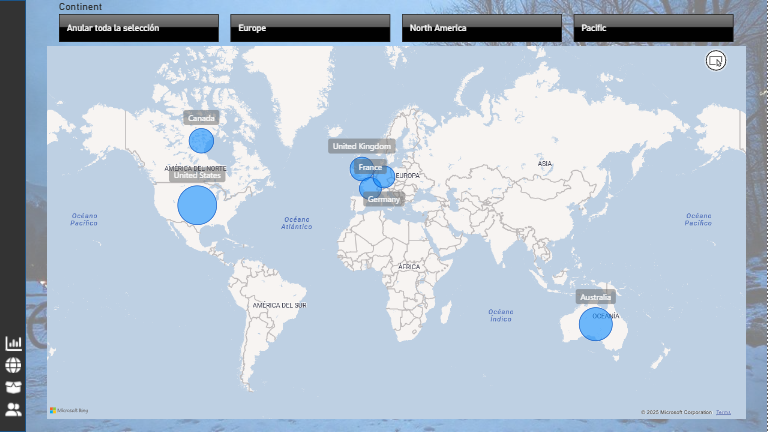

Layout of this report page (visuals, bound fields, positions):
{"tool":"powerbi","page":{"name":"Map","canvas":[1280,720],"ordinal":1},"visuals":[{"type":"shape","box":[0,0,45,720],"z":0},{"type":"actionButton","box":[7.1,555.7,35.7,35.7],"z":0,"group":"g1"},{"type":"map","fields":{"Category":["Territory Lookup.Country"],"Size":["Measure Table.Total Orders"]},"box":[75,71.7,1175,631.7],"z":1000},{"type":"actionButton","box":[7.1,592.8,35.7,34.3],"z":1000,"group":"g1"},{"type":"advancedSlicerVisual","fields":{"Values":["Territory Lookup.Continent"]},"box":[100,0,1125,75],"z":2000},{"type":"actionButton","box":[7,629,35,35],"z":2000,"group":"g1"},{"type":"group","id":"g1","title":"Navigation Buttons","box":[7,555.7,35.9,145],"z":3000},{"type":"actionButton","box":[7,665.7,35,35],"z":3000,"group":"g1"}]}

Visuals, with their boxes on the page's 1280x720 design canvas (x1, y1, x2, y2). These are canvas units, not pixel positions in the 768x432 screenshot, which may show the page scaled, cropped or inside an application window:
shape: bbox=[0, 0, 45, 720]
actionButton: bbox=[7, 556, 43, 591]
map - Territory Lookup.Country x Measure Table.Total Orders: bbox=[75, 72, 1250, 703]
actionButton: bbox=[7, 593, 43, 627]
advancedSlicerVisual - Territory Lookup.Continent: bbox=[100, 0, 1225, 75]
actionButton: bbox=[7, 629, 42, 664]
"Navigation Buttons" group: bbox=[7, 556, 43, 701]
actionButton: bbox=[7, 666, 42, 701]
